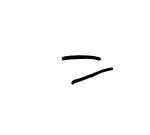eqv: (62, 55, 113, 85)
